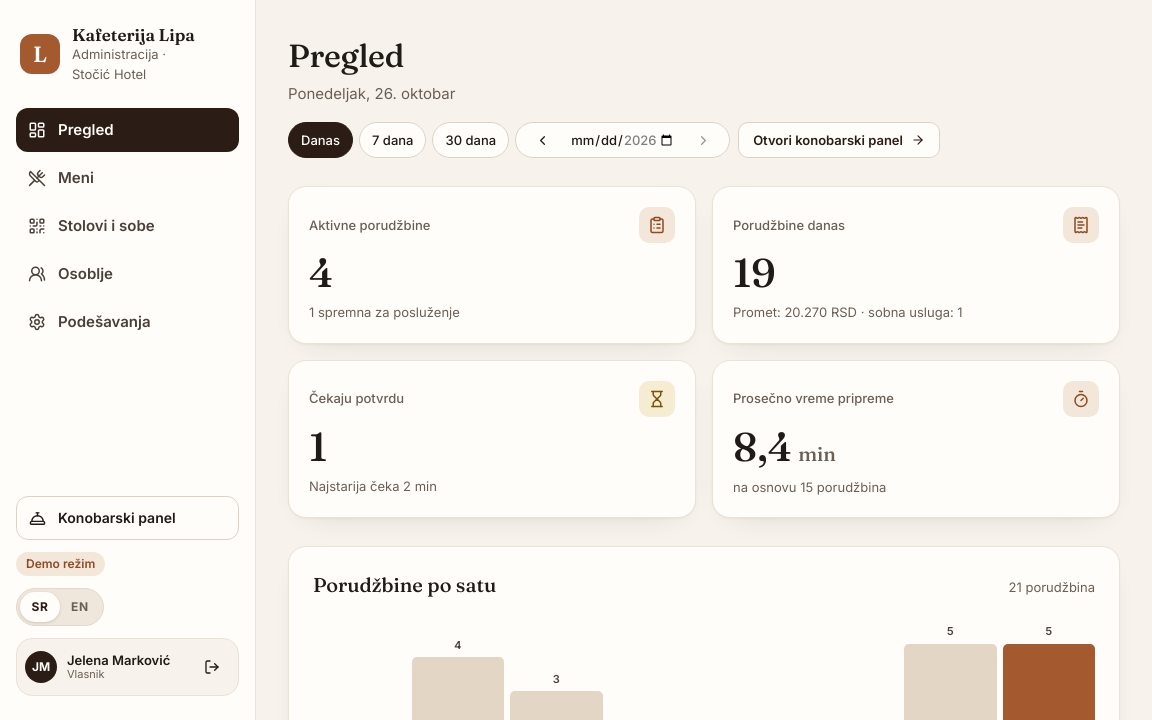
Test: staff › a day in the 30-day chart opens that day
The image size is (1152, 720).
Click the button "30 dana".
click(471, 140)  # box top-left (432, 122), bottom-right (509, 158)
(page scrolled)
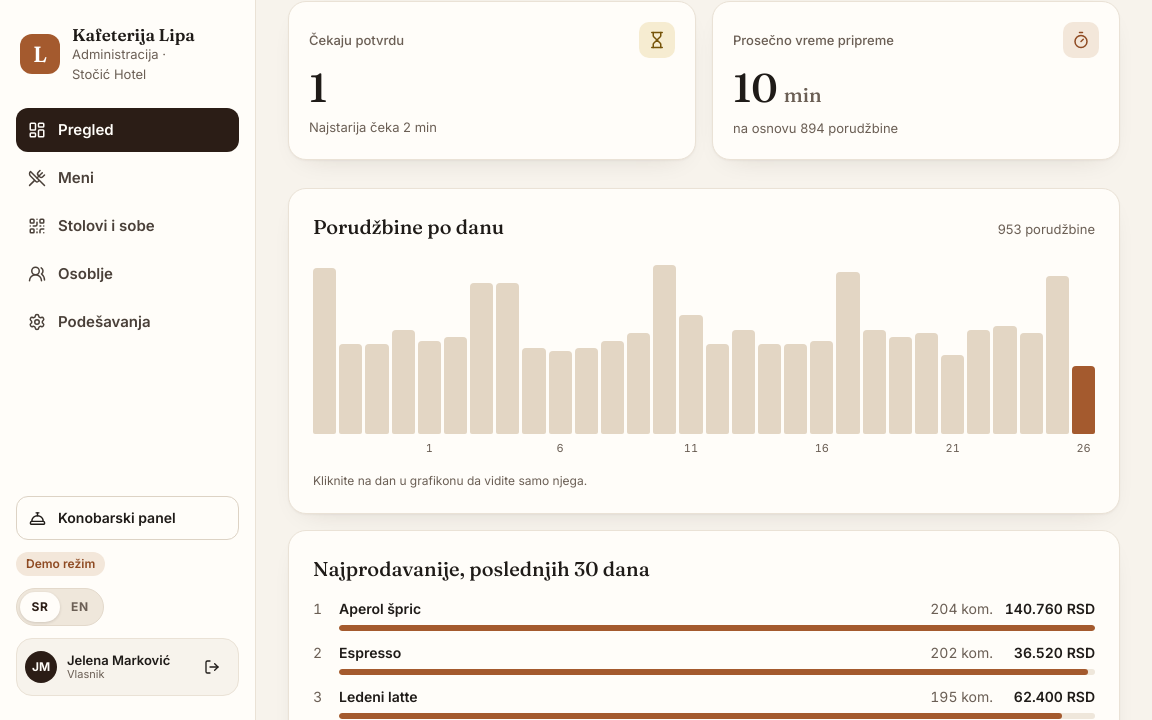
Click the button named "sre 7. okt — 24 porudžbine · 27.930 RSD".
click(586, 361)  # box top-left (575, 265), bottom-right (598, 457)
(page scrolled)
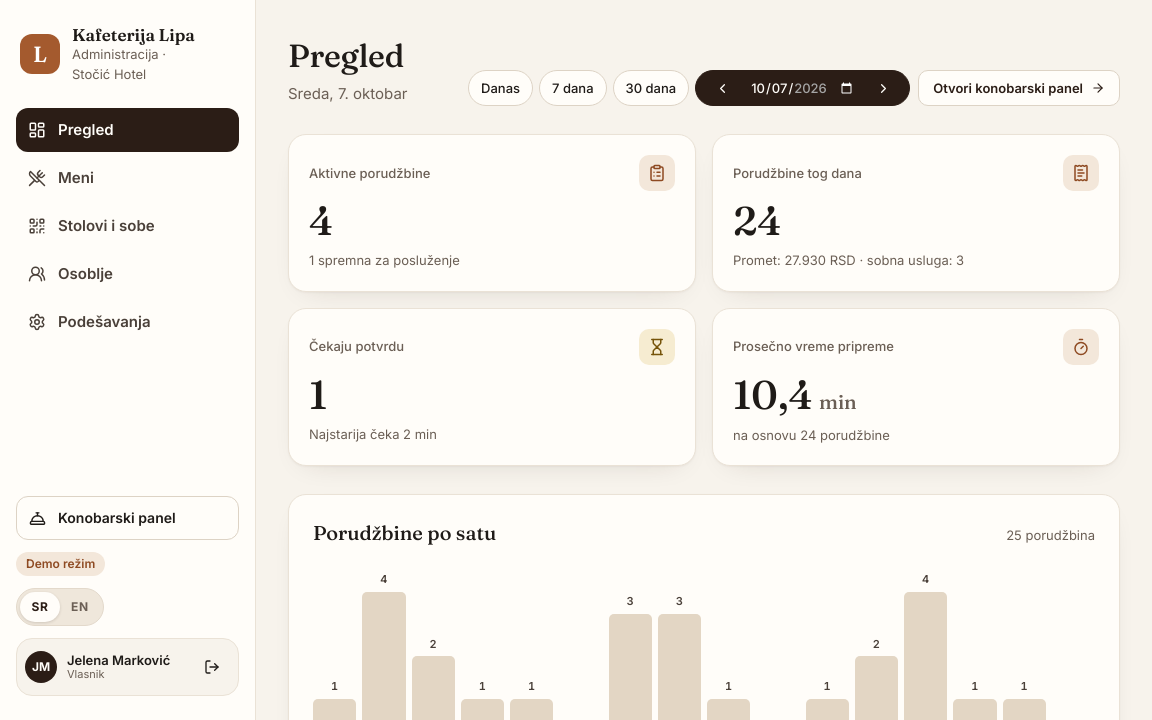
Now the text "Porudžbine tog dana" is shown, box top-left (733, 164), bottom-right (862, 183)
